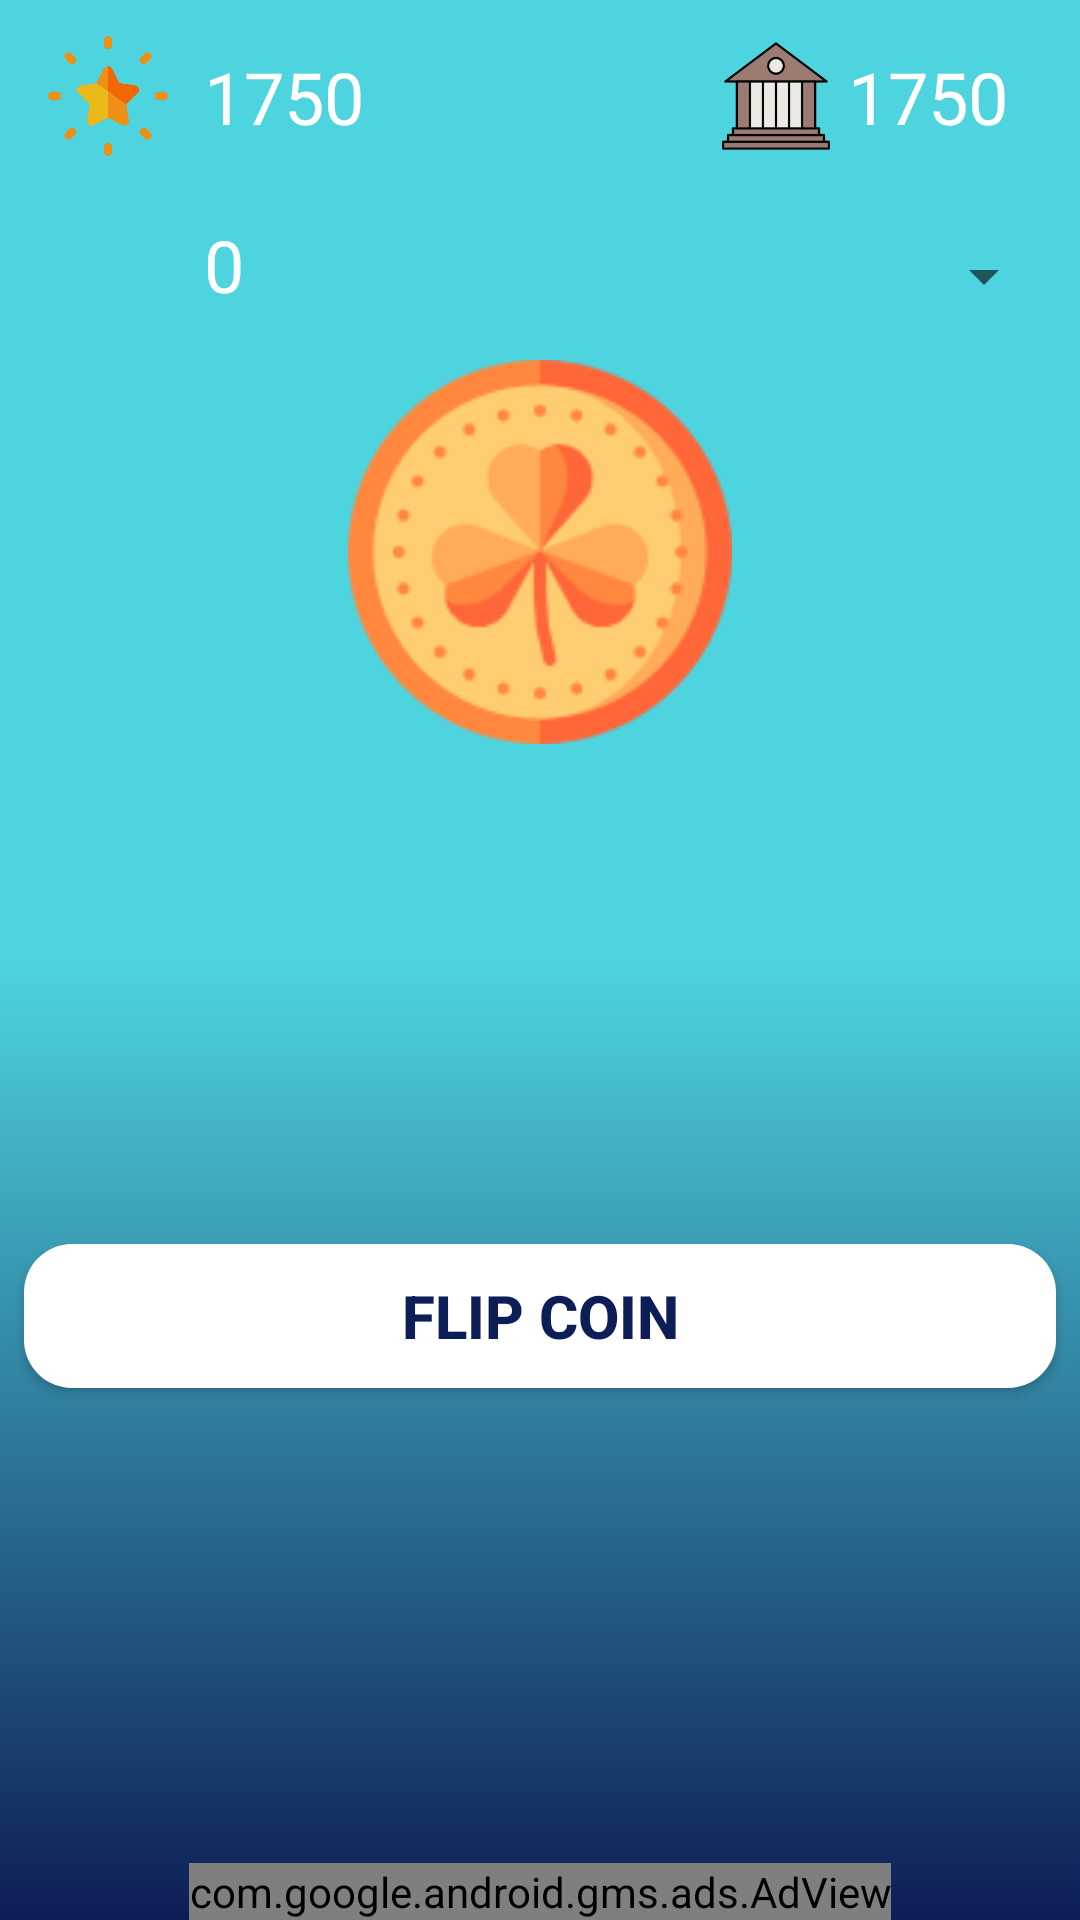

Screen size 1080 × 1920. Icon name, then its center in pixels as (x,y):
bank: (776,96)
star: (108,96)
